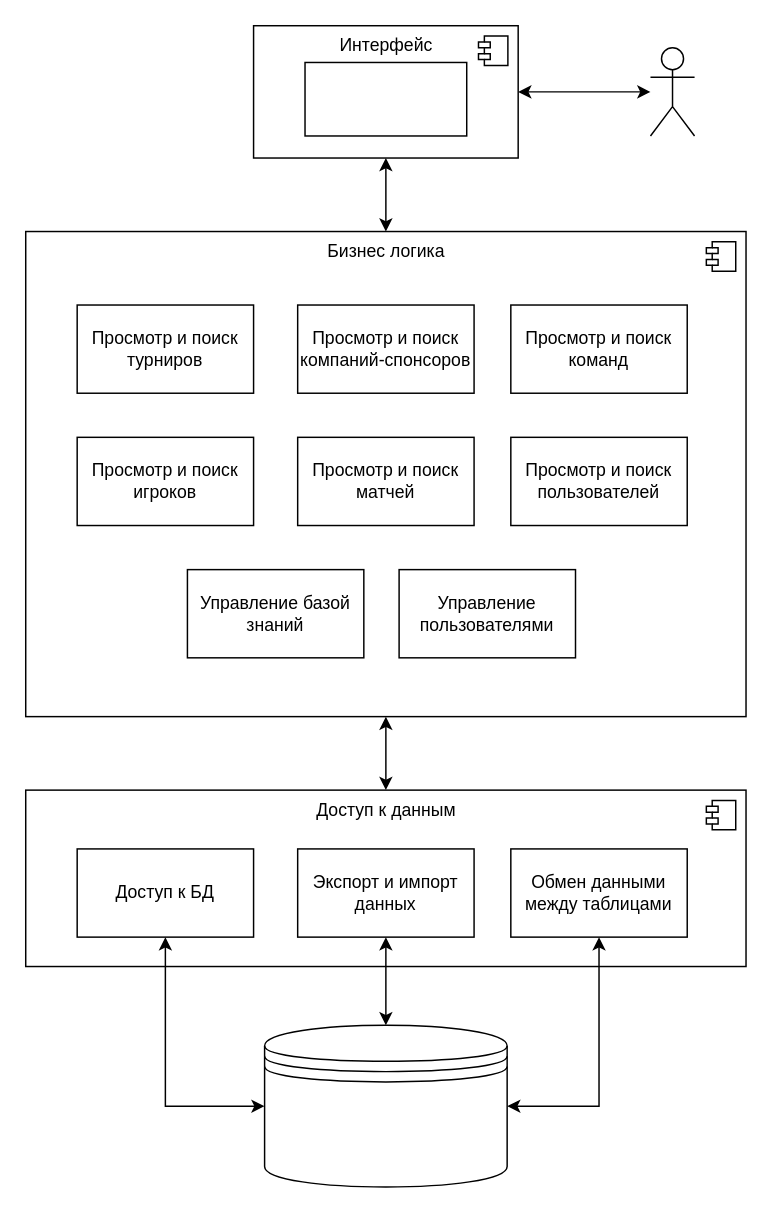
Image size: 772x1213. Some labels were removed from this diagram. The centre of each missing label's shape, as x and y in pixels:
БД: [385,1105]
Действие: [385,98]
Пользователь: [672,91]
